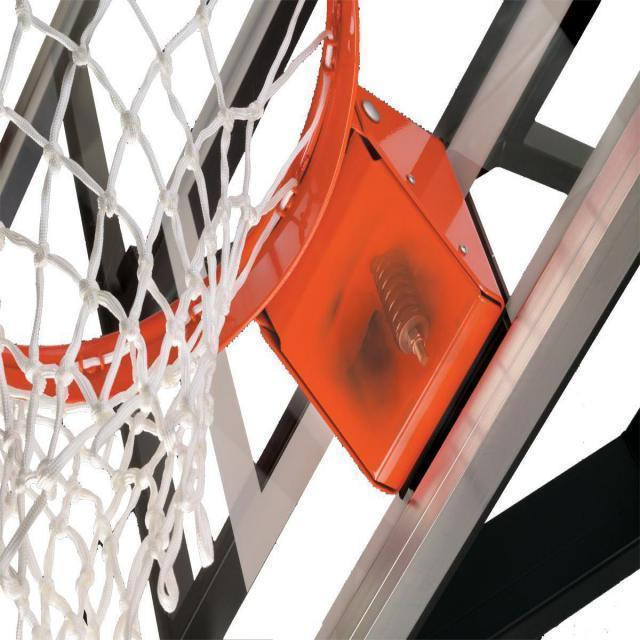hoop: (13, 2, 485, 590)
